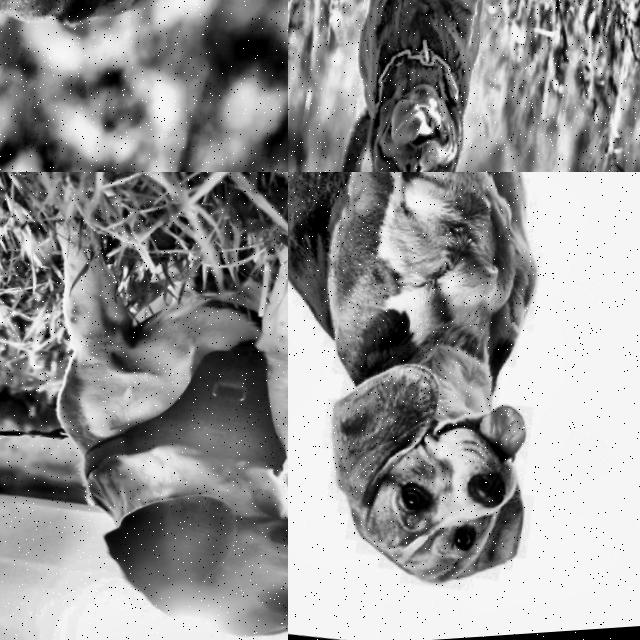beagle: (288, 315, 574, 634), (48, 435, 288, 640)
rottweiler: (0, 0, 274, 102), (315, 32, 505, 172)
